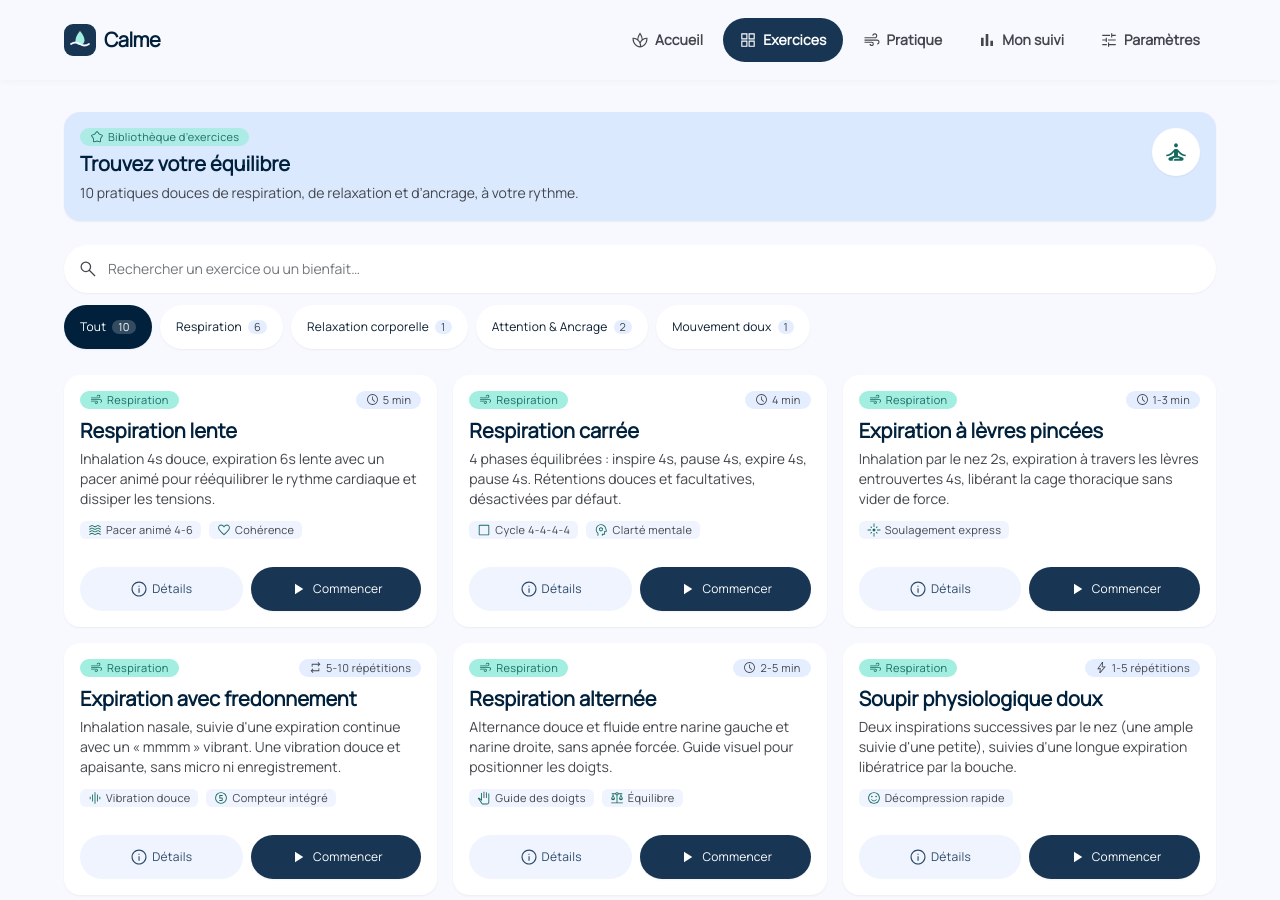
exercise library › opens an accessible details sheet that closes with Escape
Click the button with aria-label "Détails : Respiration carrée".
click(551, 589)  # box [469,567,632,611]
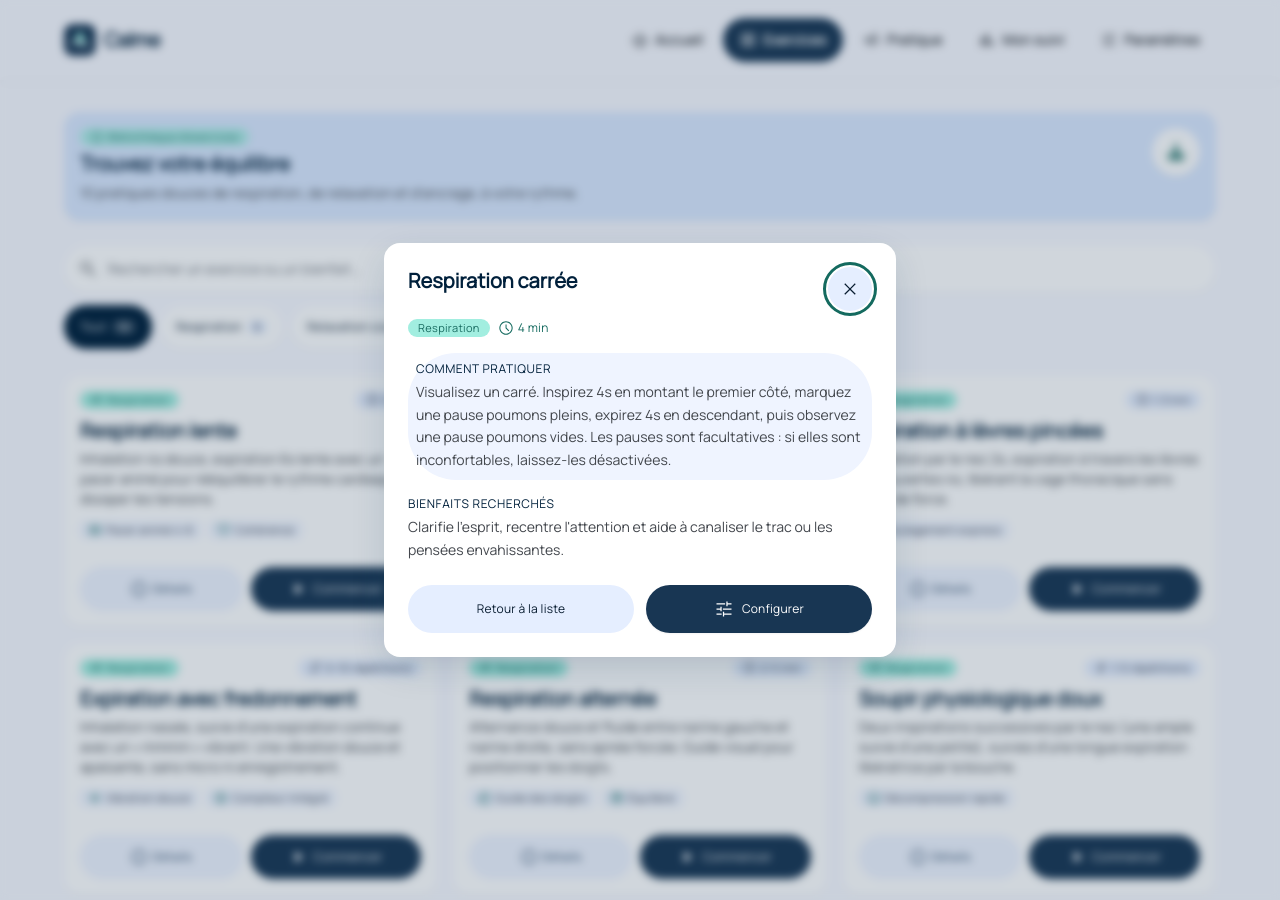
Expected: the text "Visualisez un carré" is shown, [416,382,860,469]
Press Escape
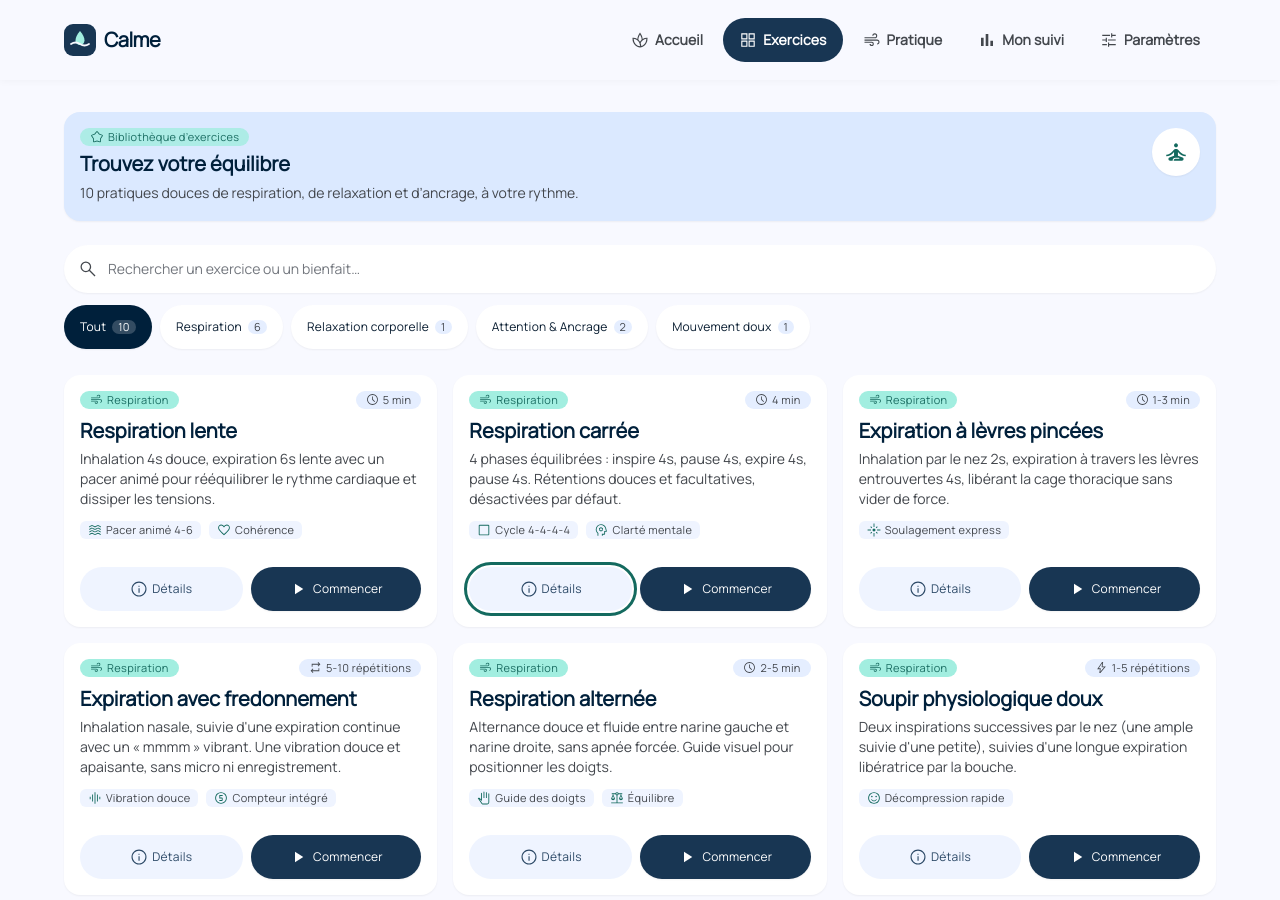
Expected: the dialog is gone
